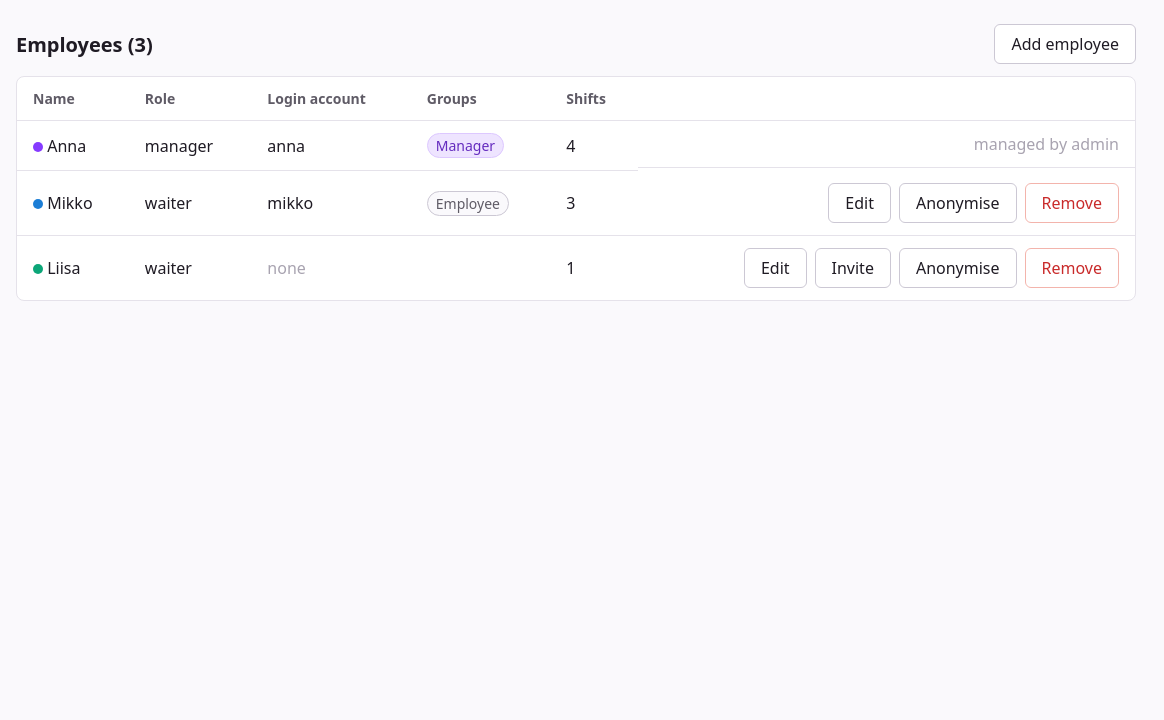
Test: adds an employee and emails the invitation
Expected: the heading "Employees (3)" is shown, 16,30 -> 153,58
Click the button "Add employee" at [1065, 44], box 994,24 -> 1136,64
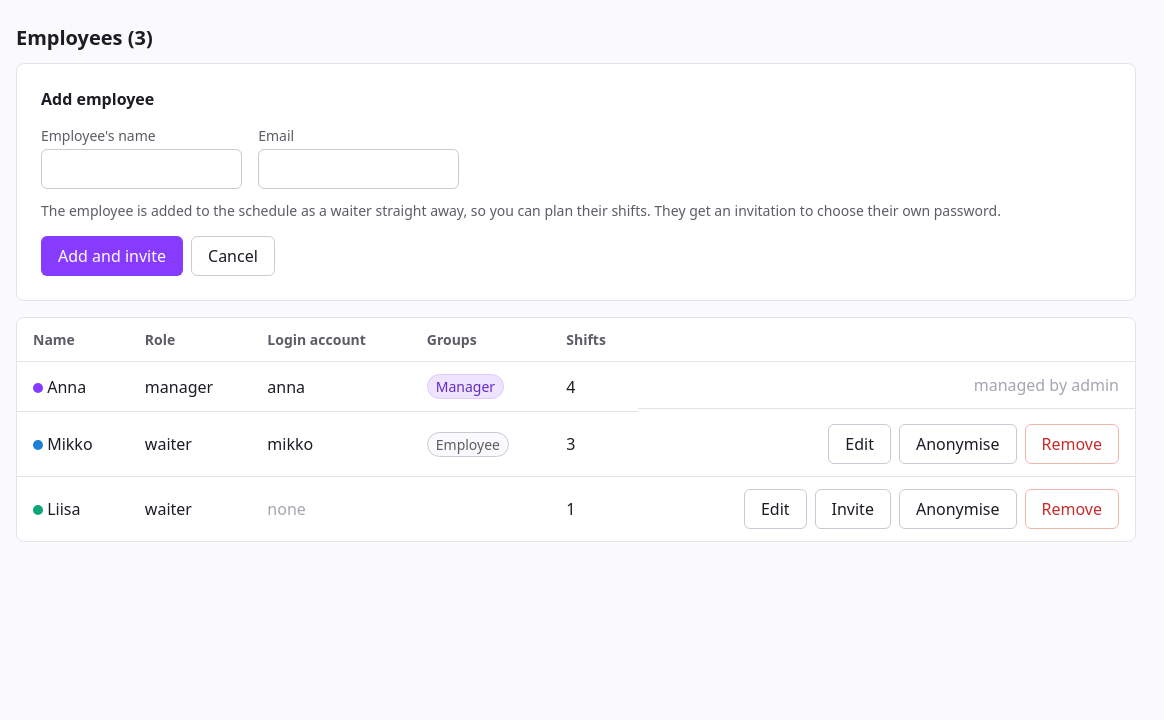
Type "Kalle" into the field labelled "Employee's name" at [142, 169], box 41,149 -> 242,189
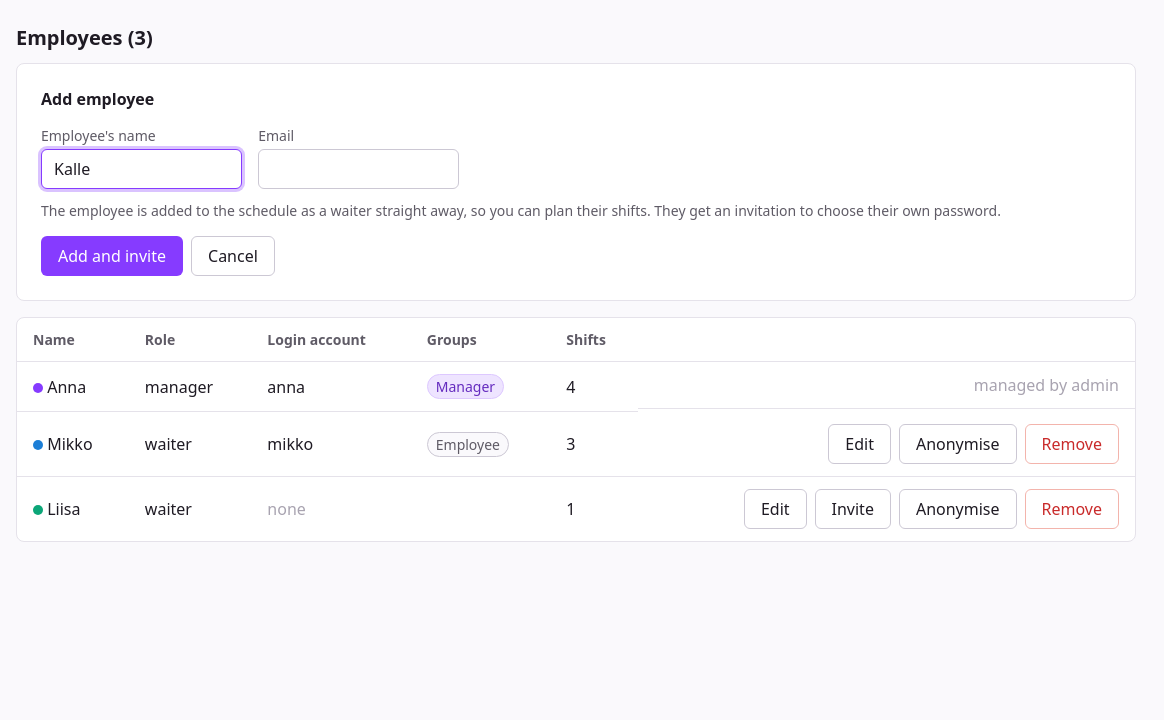
Type "kalle@example.com" into the field labelled "Email" at [359, 169], box 258,149 -> 459,189
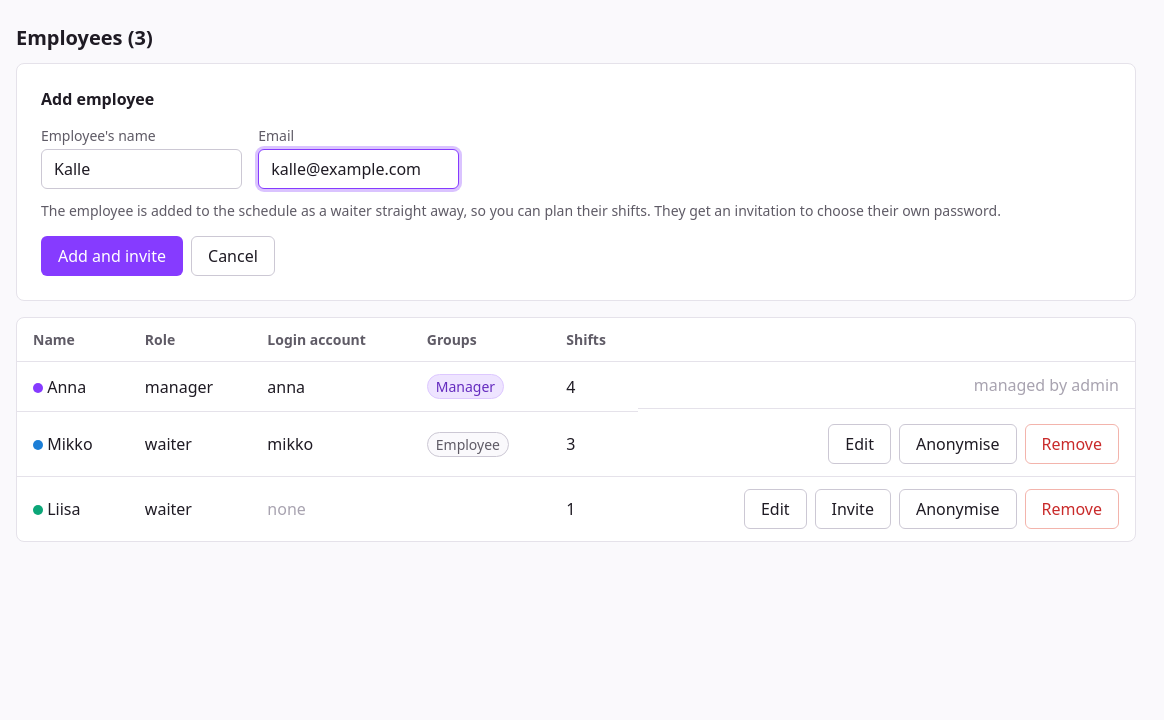
Click the button "Add and invite" at [112, 256], box 41,236 -> 183,276
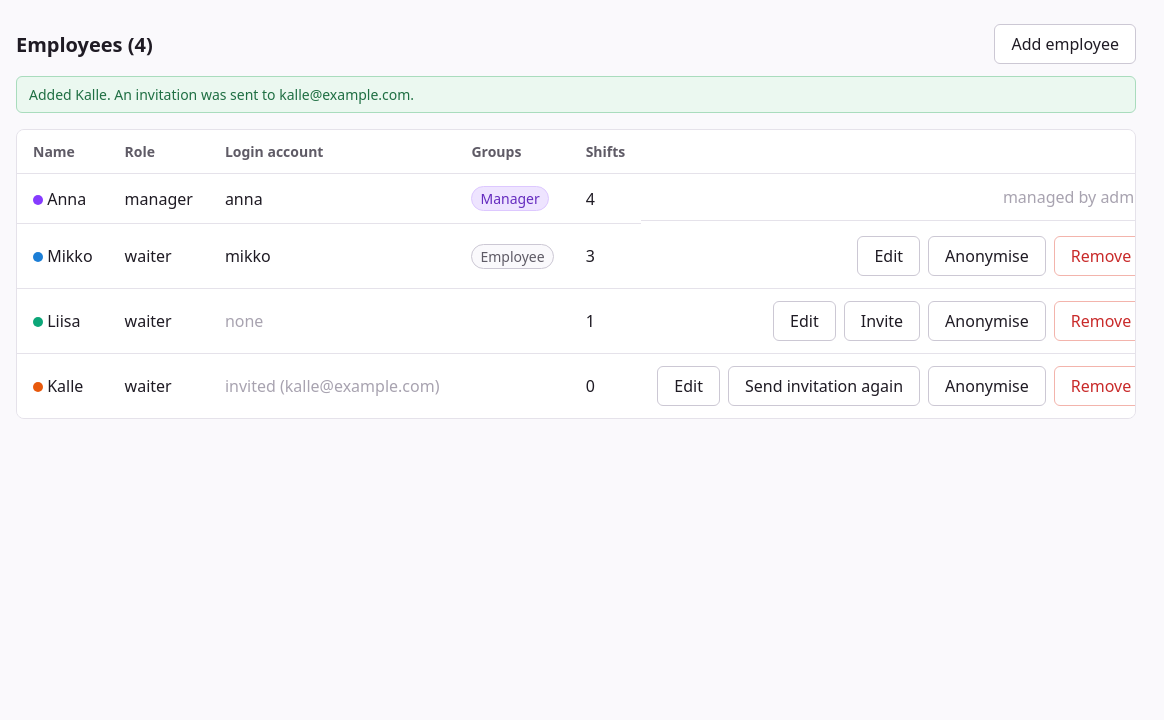
Result: the message reads "Added Kalle. An invitation was sent to kalle@example.com." at 29,85 -> 414,104
Result: the text "invited (kalle@example.com)" is shown at 225,375 -> 440,397
